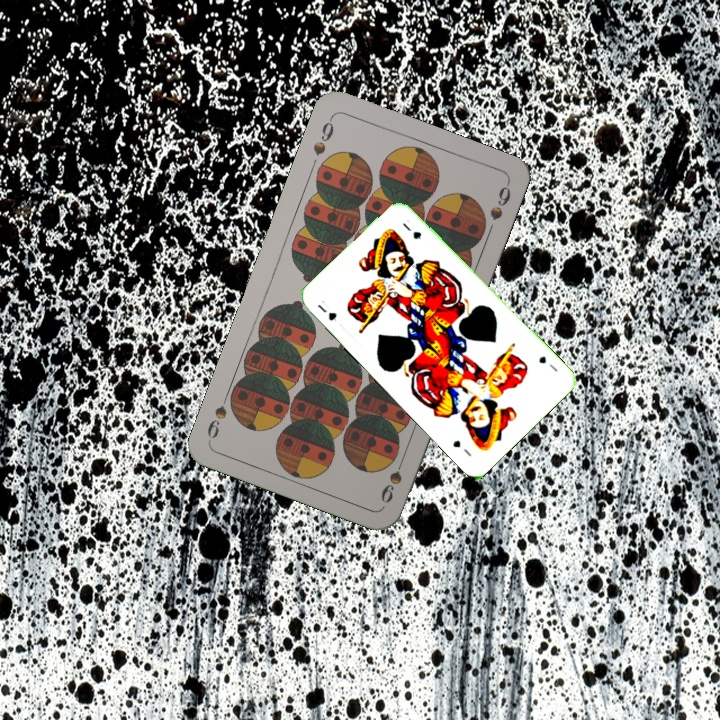GU: (313, 296, 339, 323), (535, 352, 560, 375)
S9: (376, 450, 408, 506), (309, 113, 337, 158)
